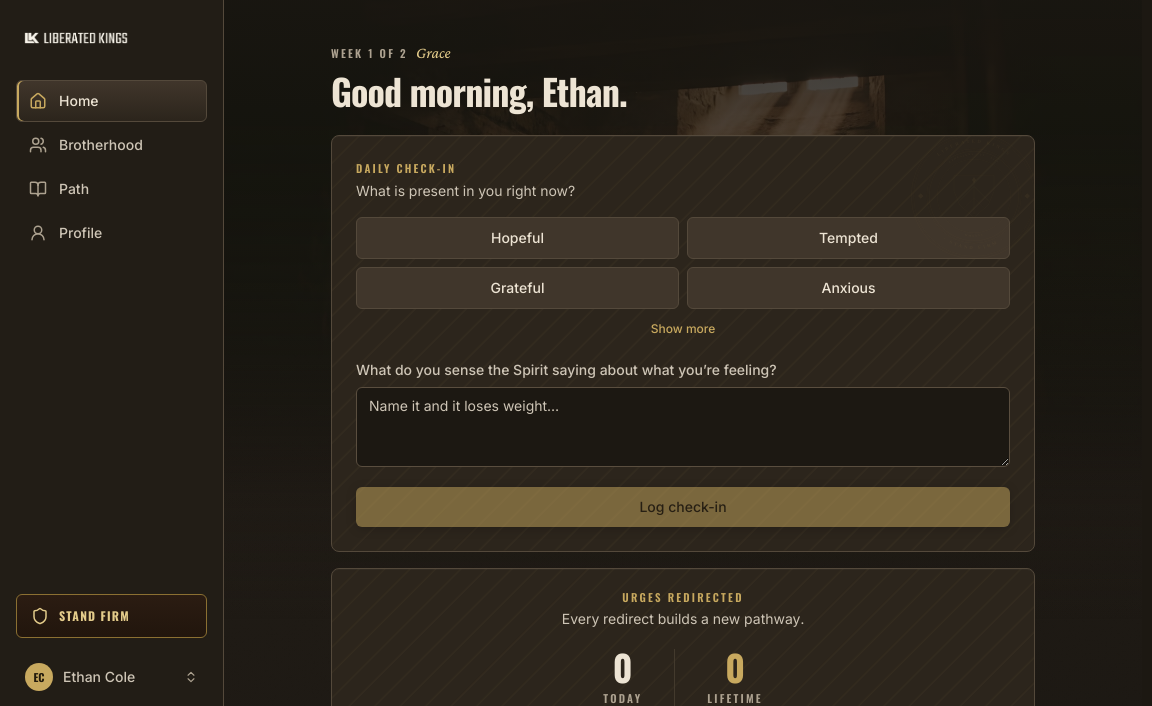
app navigation › check-in requires a feeling and a note, persists, then the path opens a lesson
Expected: the text "What is present in you right now?" is shown, [356, 182, 575, 198]
Click the button "Anxious".
click(848, 288)  # box [687, 266, 1010, 308]
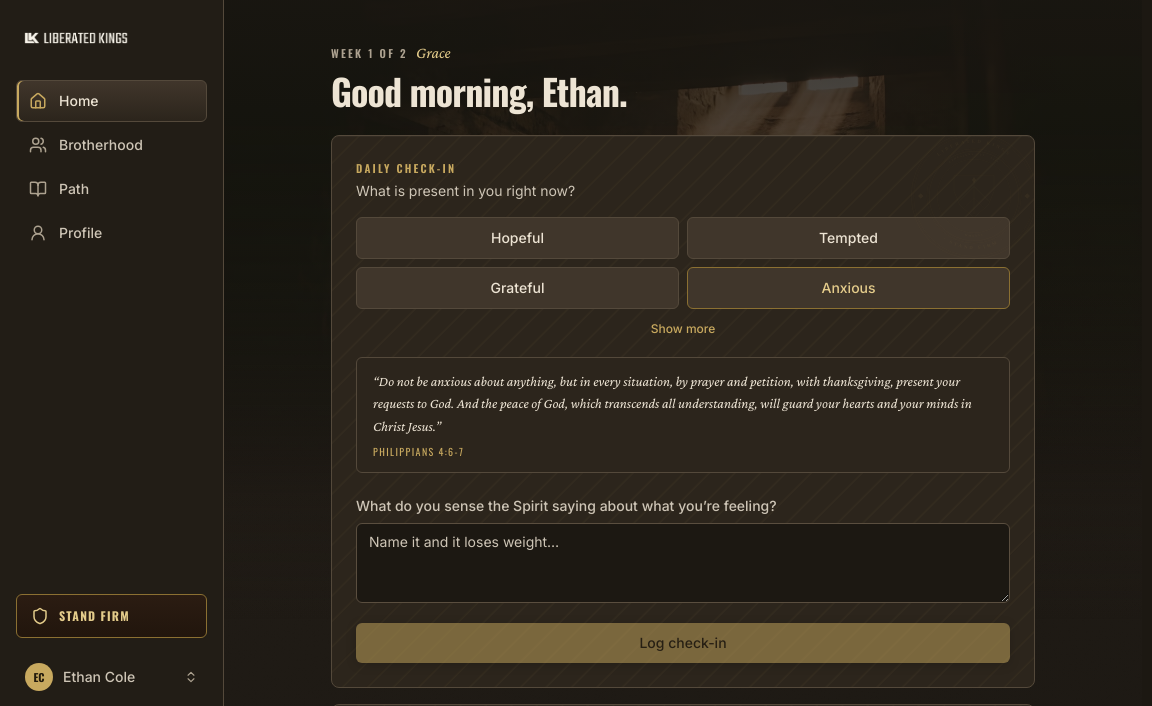
Expected: the button "Log check-in" is disabled, [356, 623, 1010, 663]
Expected: the text "PHILIPPIANS 4:6-7" is shown, [373, 444, 464, 459]
Type "He is holding me." into the text box.
click(683, 563); type("He is holding me.")  # box [356, 523, 1010, 603]
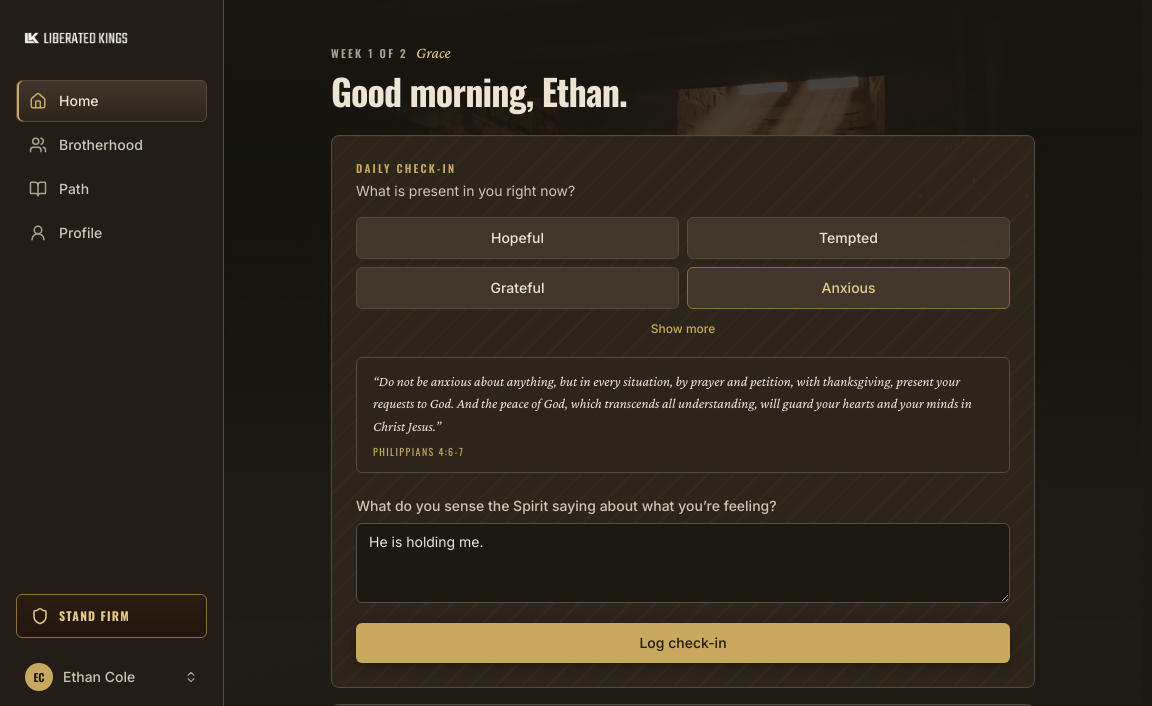
Expected: the button "Log check-in" is enabled
Click the button "Log check-in".
click(683, 643)  # box [356, 623, 1010, 663]
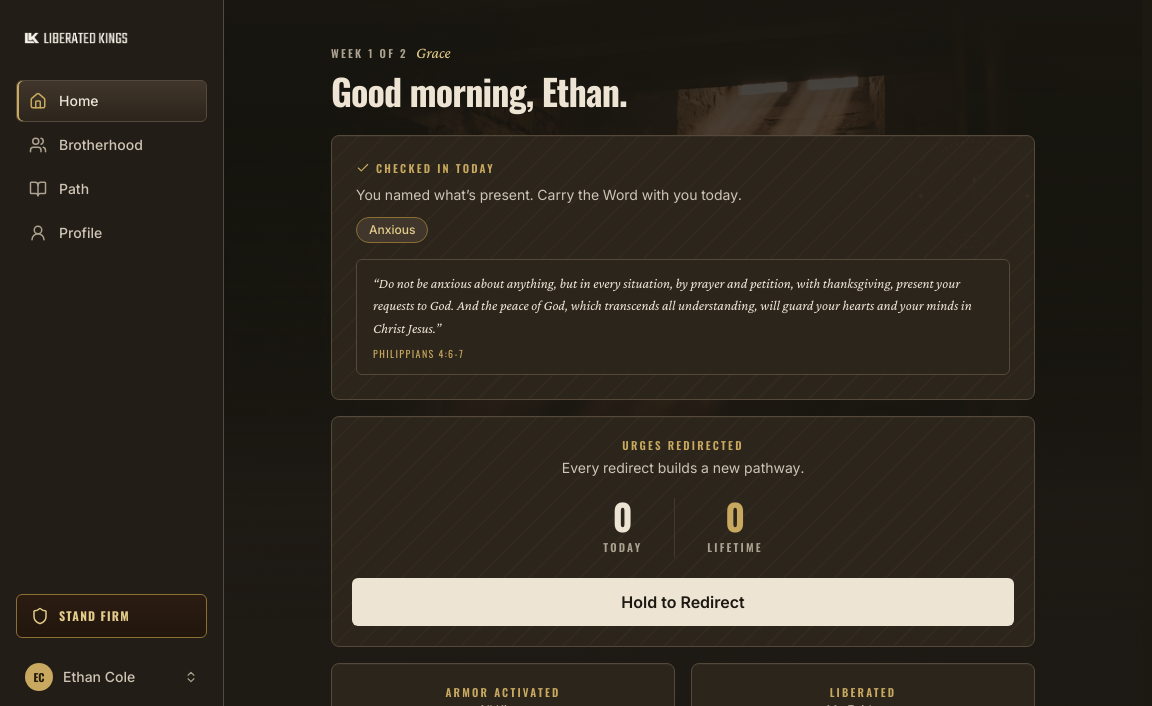
// The Path page still opens a lesson.
Click the link "Path".
click(59, 189)  # box [29, 180, 89, 198]
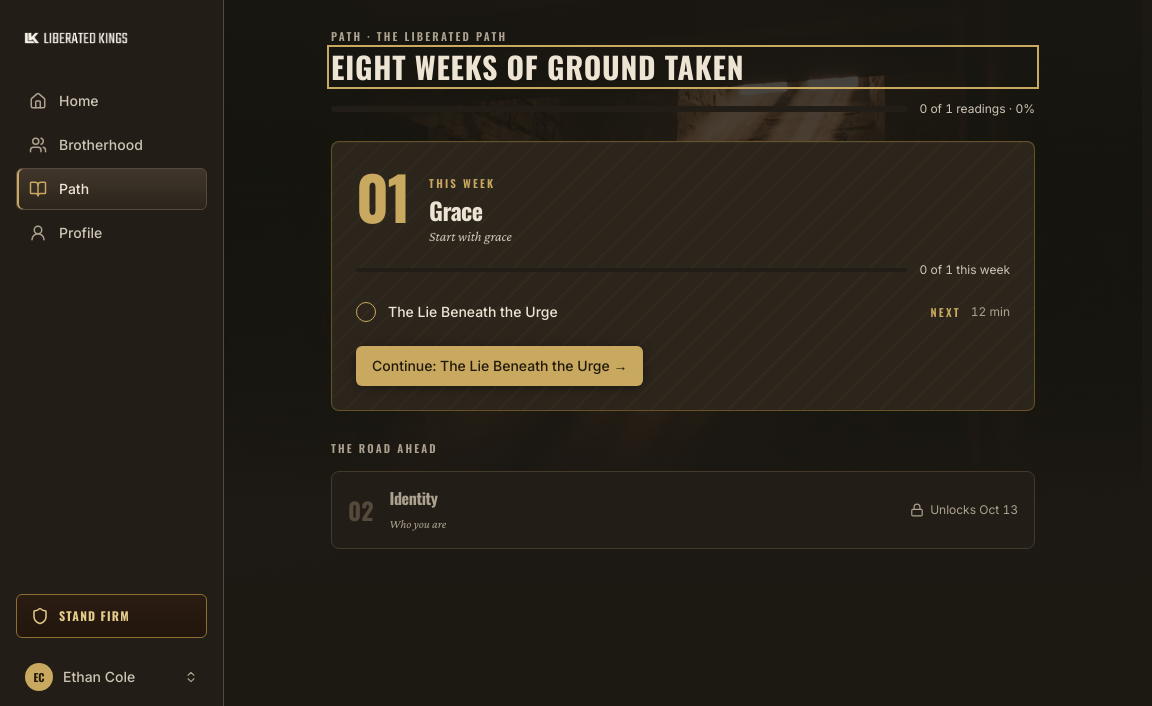
Expected: the heading "Eight weeks of ground taken" is shown, [331, 44, 744, 88]
Click the link "Continue: The Lie Beneath the Urge →".
click(500, 366)  # box [356, 346, 644, 386]
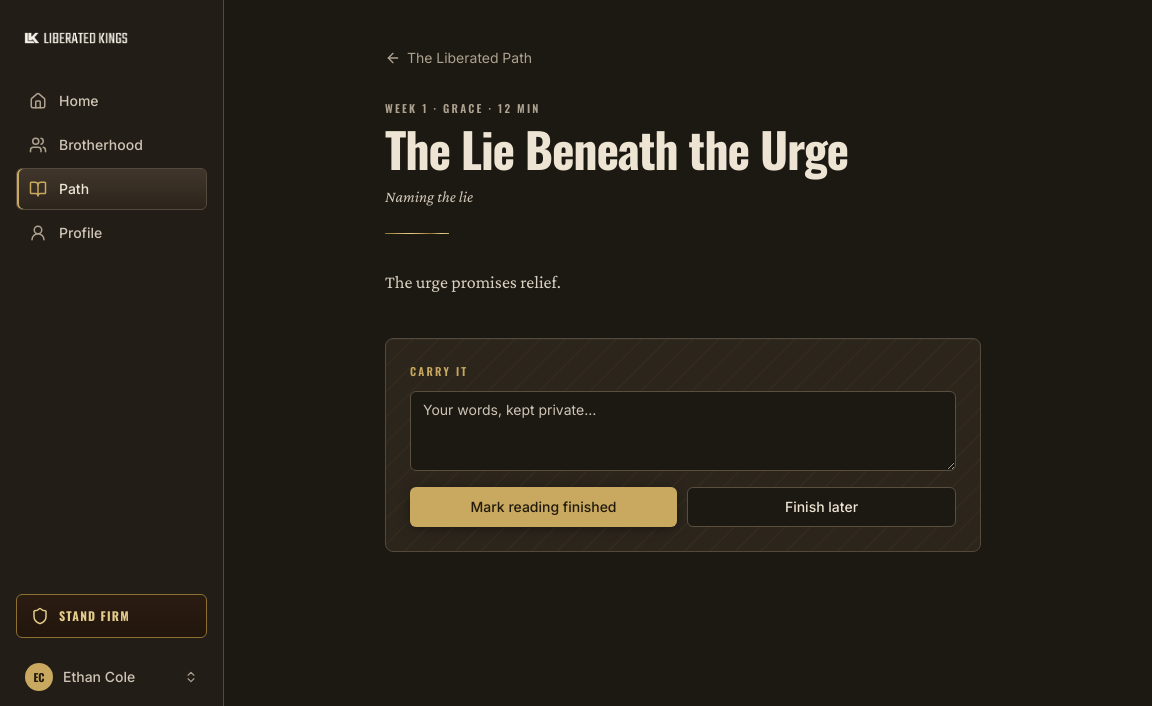
Expected: the heading "The Lie Beneath the Urge" is shown, [385, 112, 848, 184]
